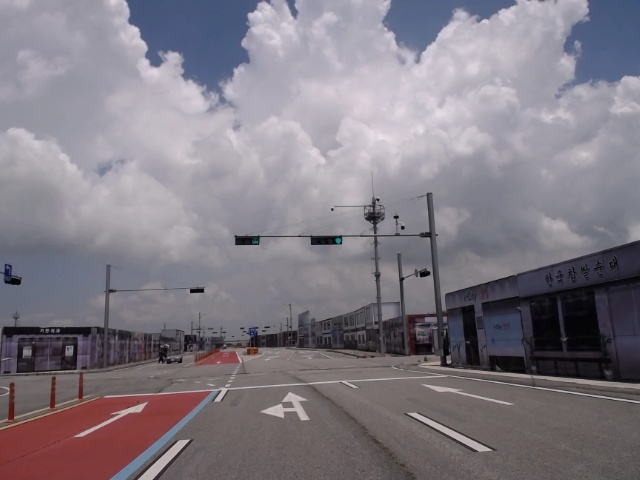straight_green_4: (311, 234, 342, 245)
